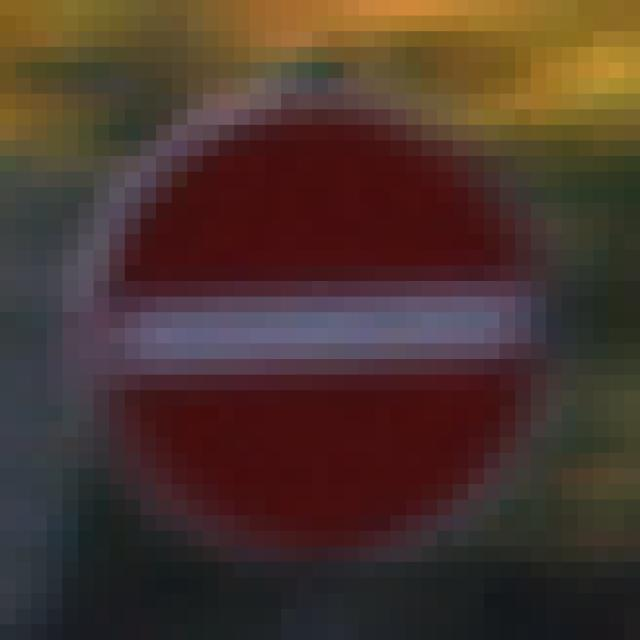No Entry: (79, 79, 563, 563)
